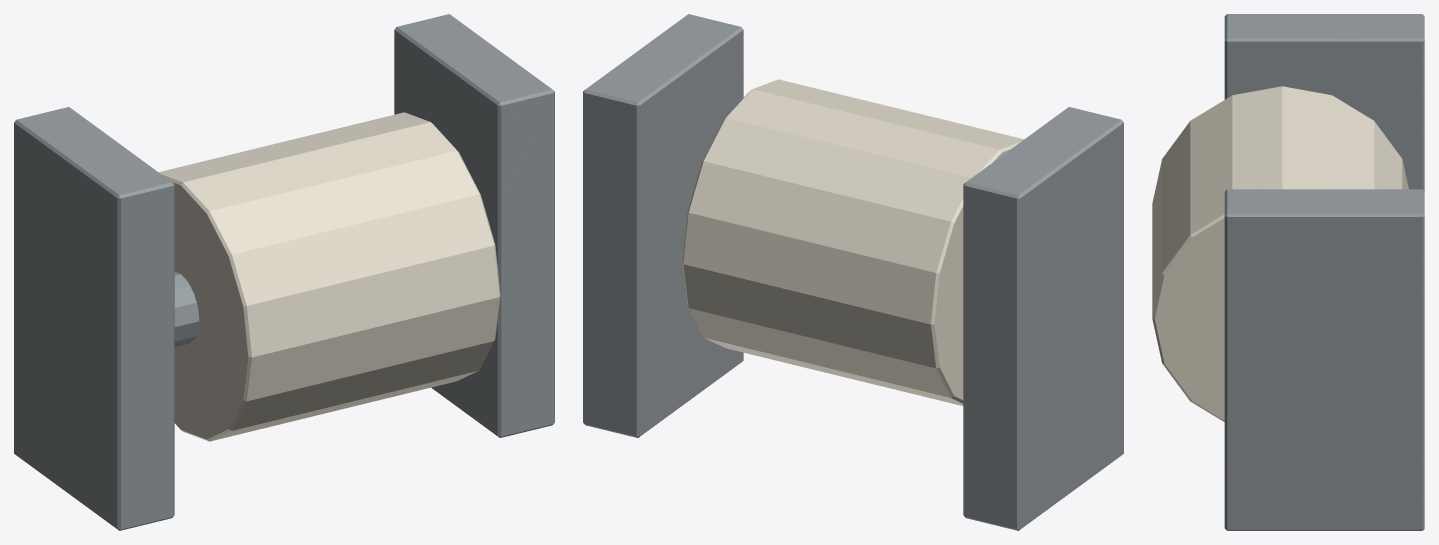
The model's file is restroom_paper_holder.glb.
3 views of the same model, side by side, from view 1: azimuth 30°, elevation 25°; view 2: azimuth 150°, elevation 25°; view 3: azimuth 270°, elevation 25° (orthographic). The views are drawn at different scales.
Parts seen in each view (by area): view 1: restroom_paper_holder; view 2: restroom_paper_holder; view 3: restroom_paper_holder.
Part boxes in pixels (x1=…): restroom_paper_holder: x1=14, y1=14, x2=554, y2=530; restroom_paper_holder: x1=583, y1=14, x2=1123, y2=530; restroom_paper_holder: x1=1152, y1=14, x2=1424, y2=530.
Bounding box in the file's own units: 0.191 × 0.14 × 0.109.
Materials: 2 (2 with a texture image).
